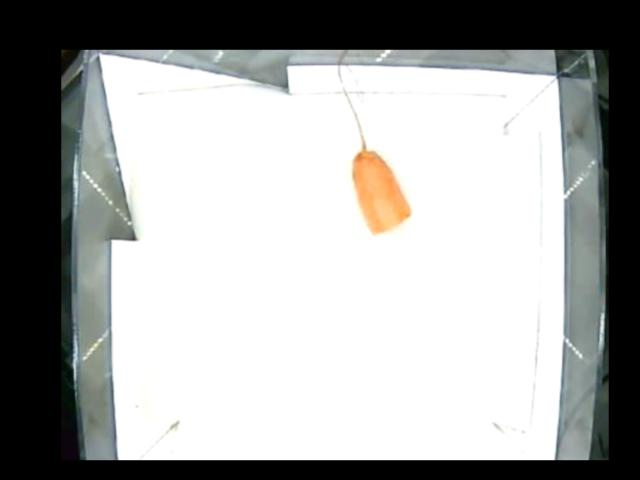Carrot: (338, 148, 417, 232)
